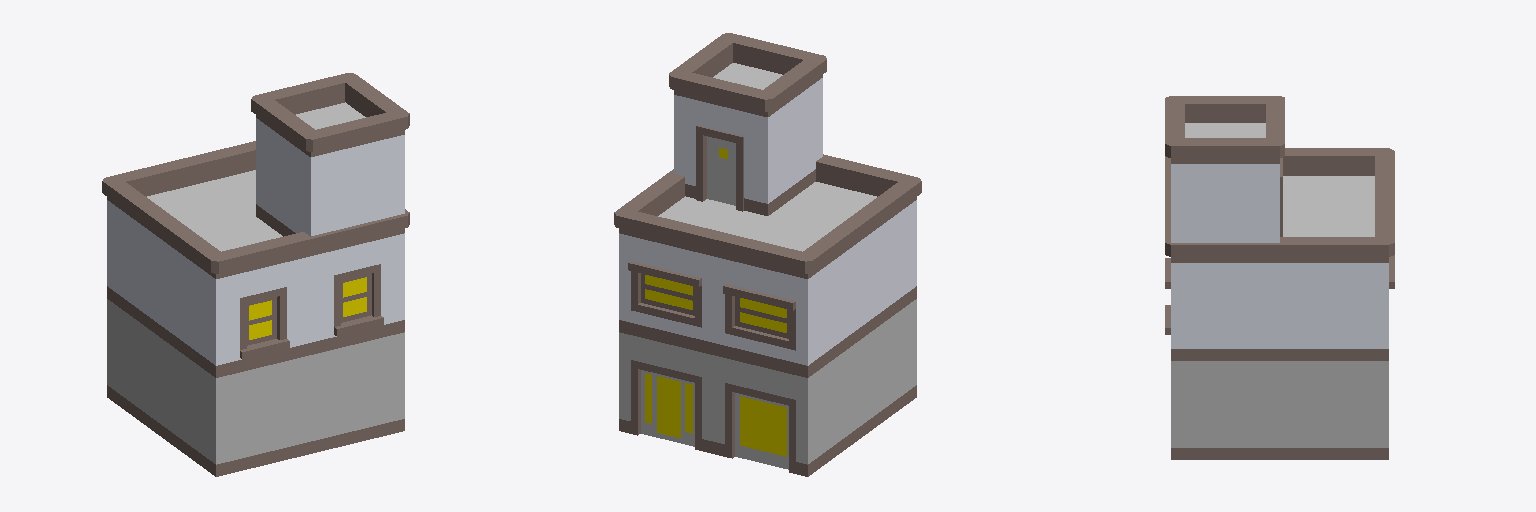
File: small_buildingF_CyPk.obj
The picture shows the model from 3 angles: view 1: azimuth 30°, elevation 25°; view 2: azimuth 150°, elevation 25°; view 3: azimuth 270°, elevation 25°; orthographic projection.
Visible parts, largest first — view 1: small_buildingF; view 2: small_buildingF; view 3: small_buildingF.
Part boxes in pixels (x1,y1,x2,y2): small_buildingF: (102,73,409,476); small_buildingF: (614,33,921,476); small_buildingF: (1165,96,1394,459).
Size of the model in its own units: 0.84 by 1.28 by 0.84.